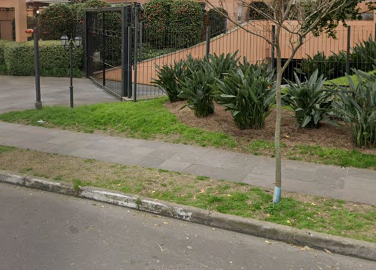vag69: (6, 138, 327, 256)
